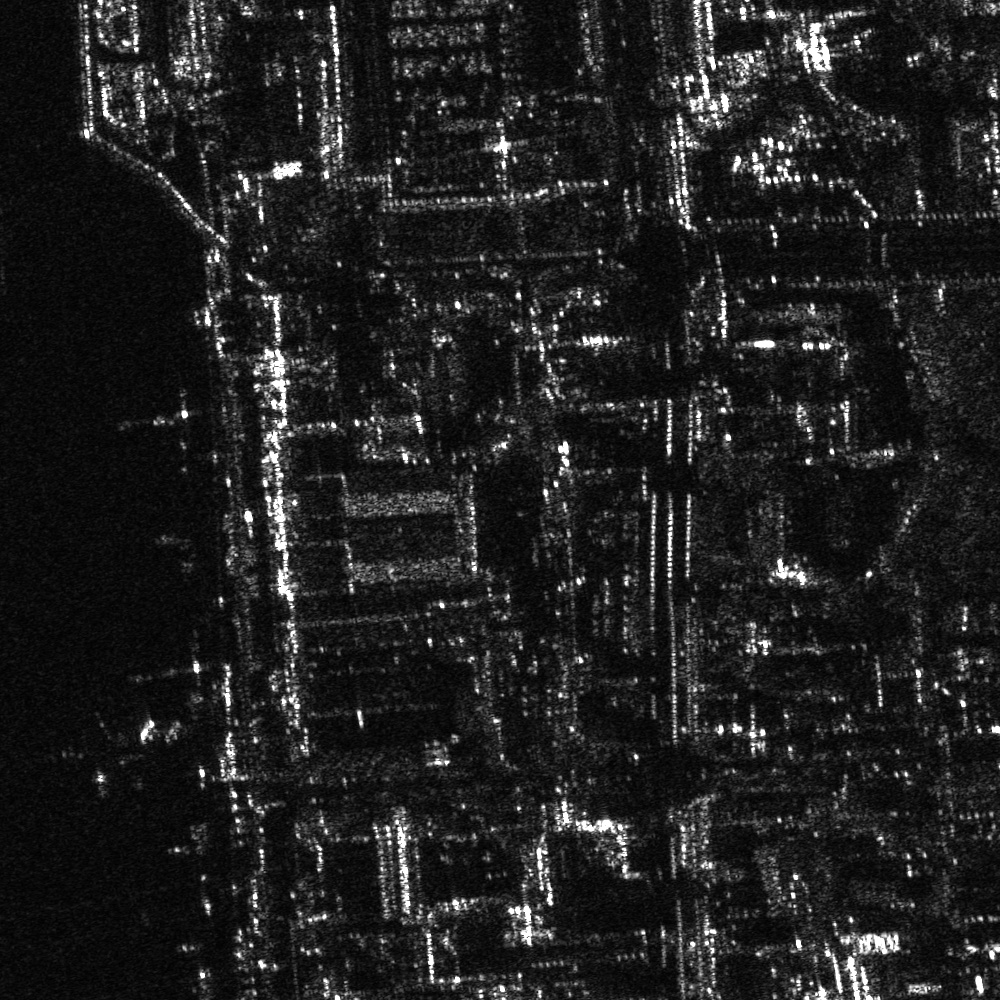A220: (43, 701, 177, 805)
